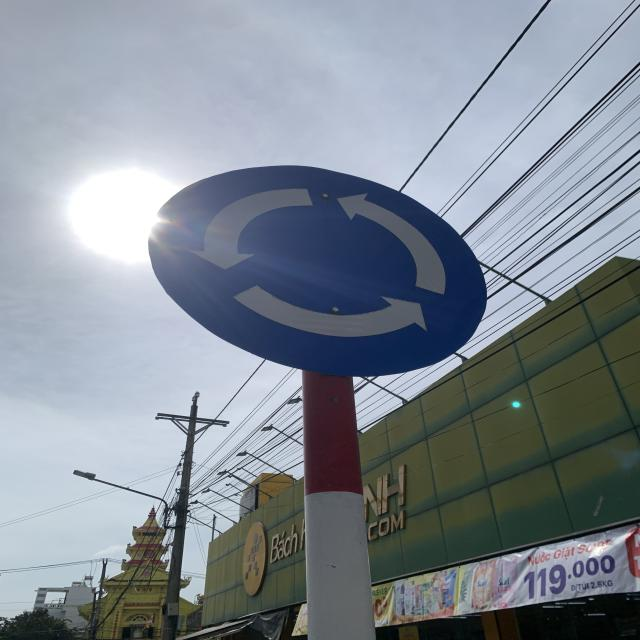Xe_Bus: (150, 165, 488, 377)
